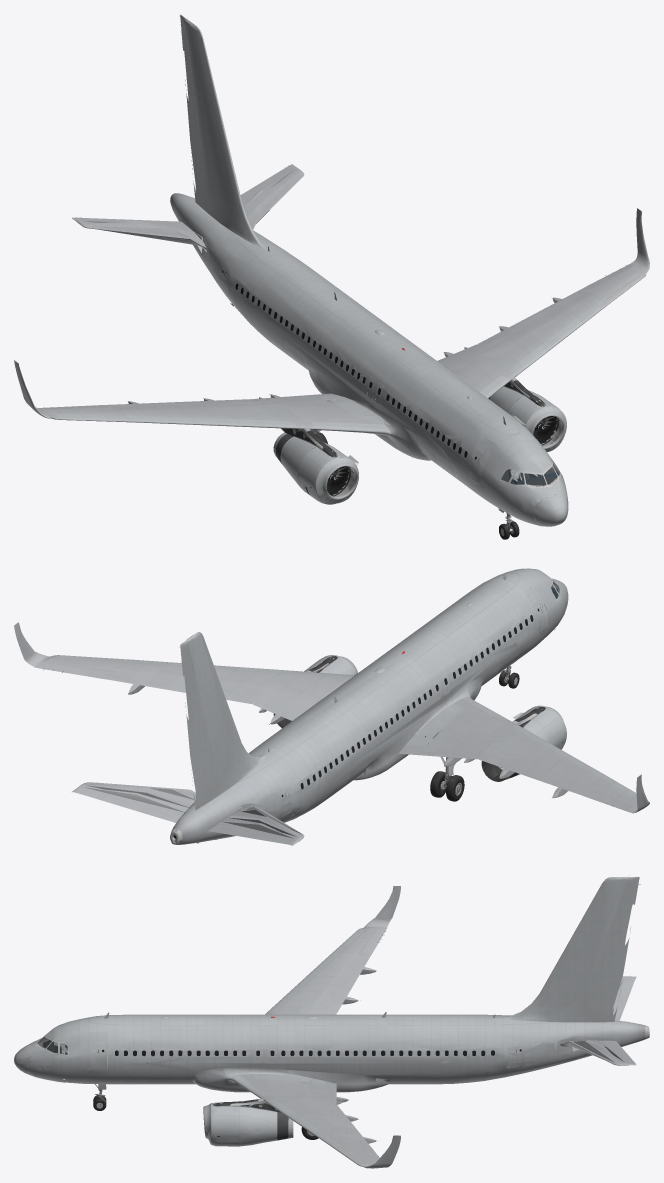
File: avion_a320_realiste.web.glb
3 views of the same model, one above another, from view 1: azimuth 30°, elevation 25°; view 2: azimuth 150°, elevation 25°; view 3: azimuth 270°, elevation 25° (orthographic). The views are drawn at different scales.
Parts seen in each view (by area): view 1: peau, cellule; view 2: peau, cellule, train_principal; view 3: peau, cellule.
Part boxes in pixels (x1,y1,x2,y2): peau: (14,14,649,526); cellule: (43,193,640,522); peau: (14,568,649,845); cellule: (44,579,606,844); train_principal: (430,757,464,801); peau: (14,877,649,1168); cellule: (26,931,649,1164).
Size of the model in its own units: 34.9 by 15.23 by 37.57.
11 materials, 9 textured.
